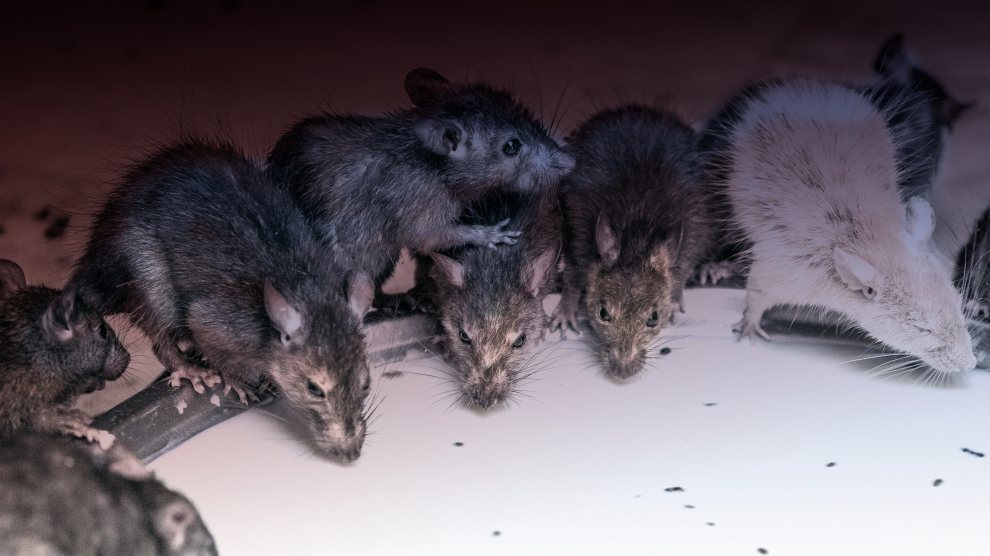rat: (142, 131, 392, 474), (332, 62, 588, 269), (776, 180, 990, 404), (388, 223, 571, 429), (552, 183, 721, 398), (1, 247, 143, 425)
